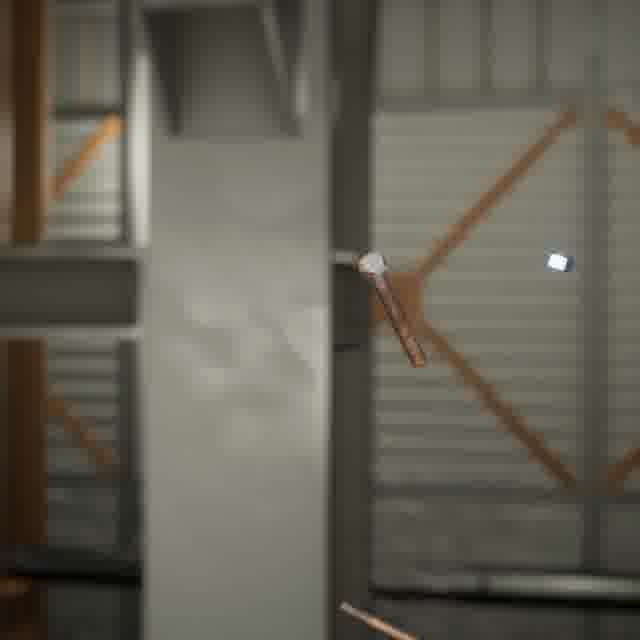bolt: (353, 247, 430, 371), (334, 595, 428, 640)
nut: (535, 245, 578, 276)
